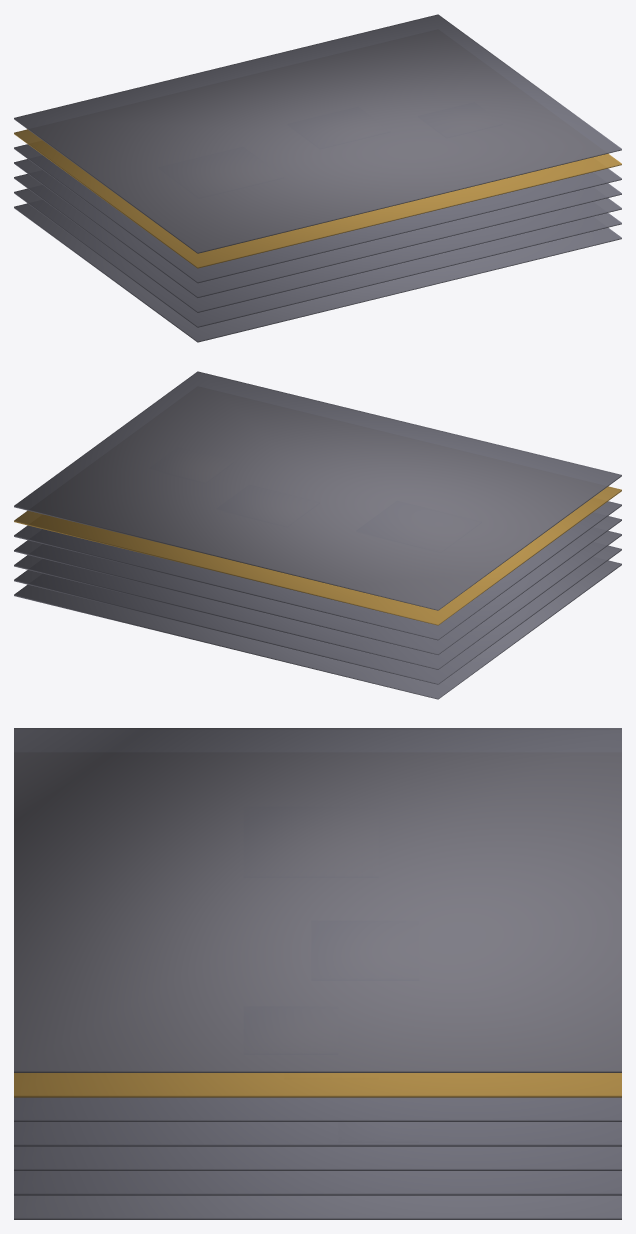
File: guomao_indoor_all.gltf
The picture shows the model from 3 angles, top to bottom: view 1: azimuth 30°, elevation 25°; view 2: azimuth 150°, elevation 25°; view 3: azimuth 270°, elevation 25°; orthographic projection. The views are drawn at different scales.
Parts seen in each view (by area): view 1: GuomaoIndoorAllFloors; view 2: GuomaoIndoorAllFloors; view 3: GuomaoIndoorAllFloors.
Boxes of the visible parts, x1,y1,x2,y2 form: GuomaoIndoorAllFloors: [14, 14, 621, 342]; GuomaoIndoorAllFloors: [14, 371, 621, 699]; GuomaoIndoorAllFloors: [14, 728, 621, 1219].
Size of the model in its own units: 120 by 24.4 by 90.
